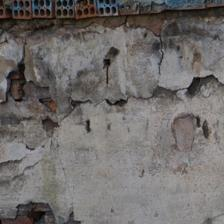Crack: (0, 11, 137, 69), (70, 0, 153, 62), (0, 32, 50, 78)
